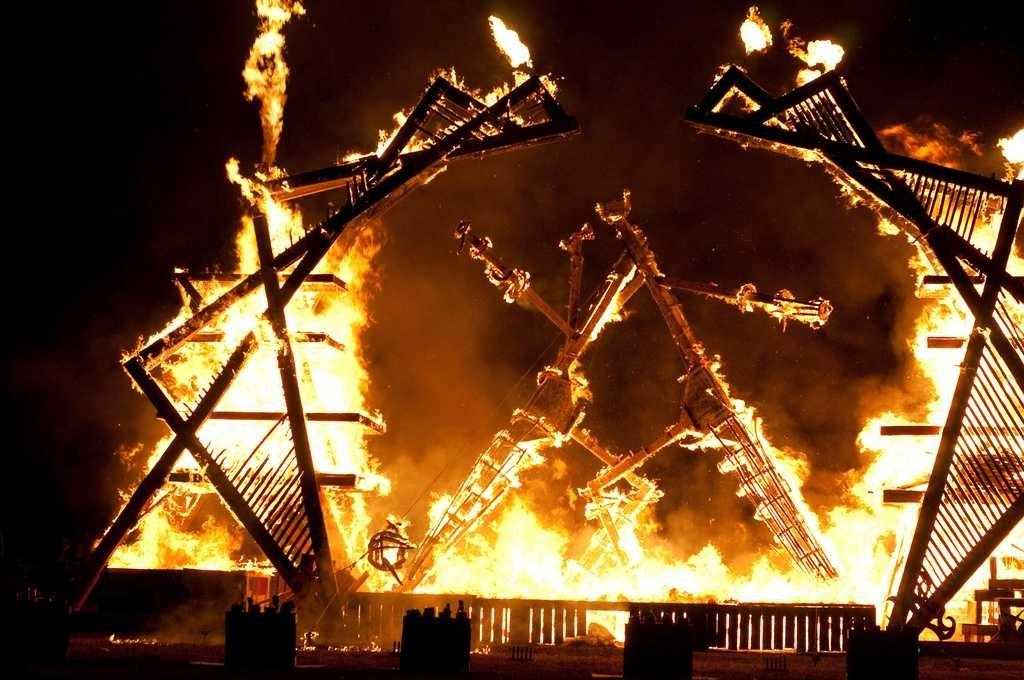fire: (303, 258, 368, 452), (565, 558, 790, 595), (448, 530, 553, 590), (832, 510, 910, 585), (885, 353, 955, 425), (233, 347, 282, 422)
